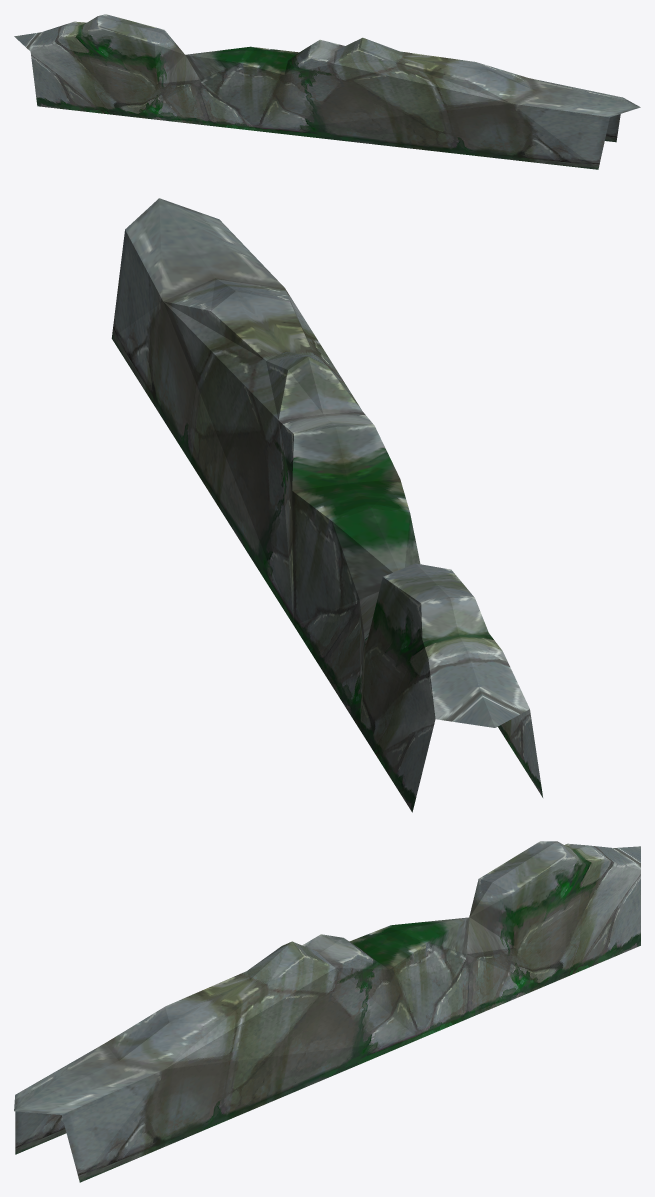
The model's file is stemple_cap_diagonal_01.fbx.
3 views of the same model, one above another, from view 1: azimuth 30°, elevation 25°; view 2: azimuth 150°, elevation 25°; view 3: azimuth 270°, elevation 25° (orthographic). The views are drawn at different scales.
Visible parts, largest first — view 1: obj0.072; view 2: obj0.072; view 3: obj0.072.
Boxes of the visible parts, x1,y1,x2,y2 form: obj0.072: [14, 14, 640, 169]; obj0.072: [111, 198, 542, 812]; obj0.072: [14, 841, 640, 1182].
Size of the model in its own units: 4 by 0.8728 by 4.
